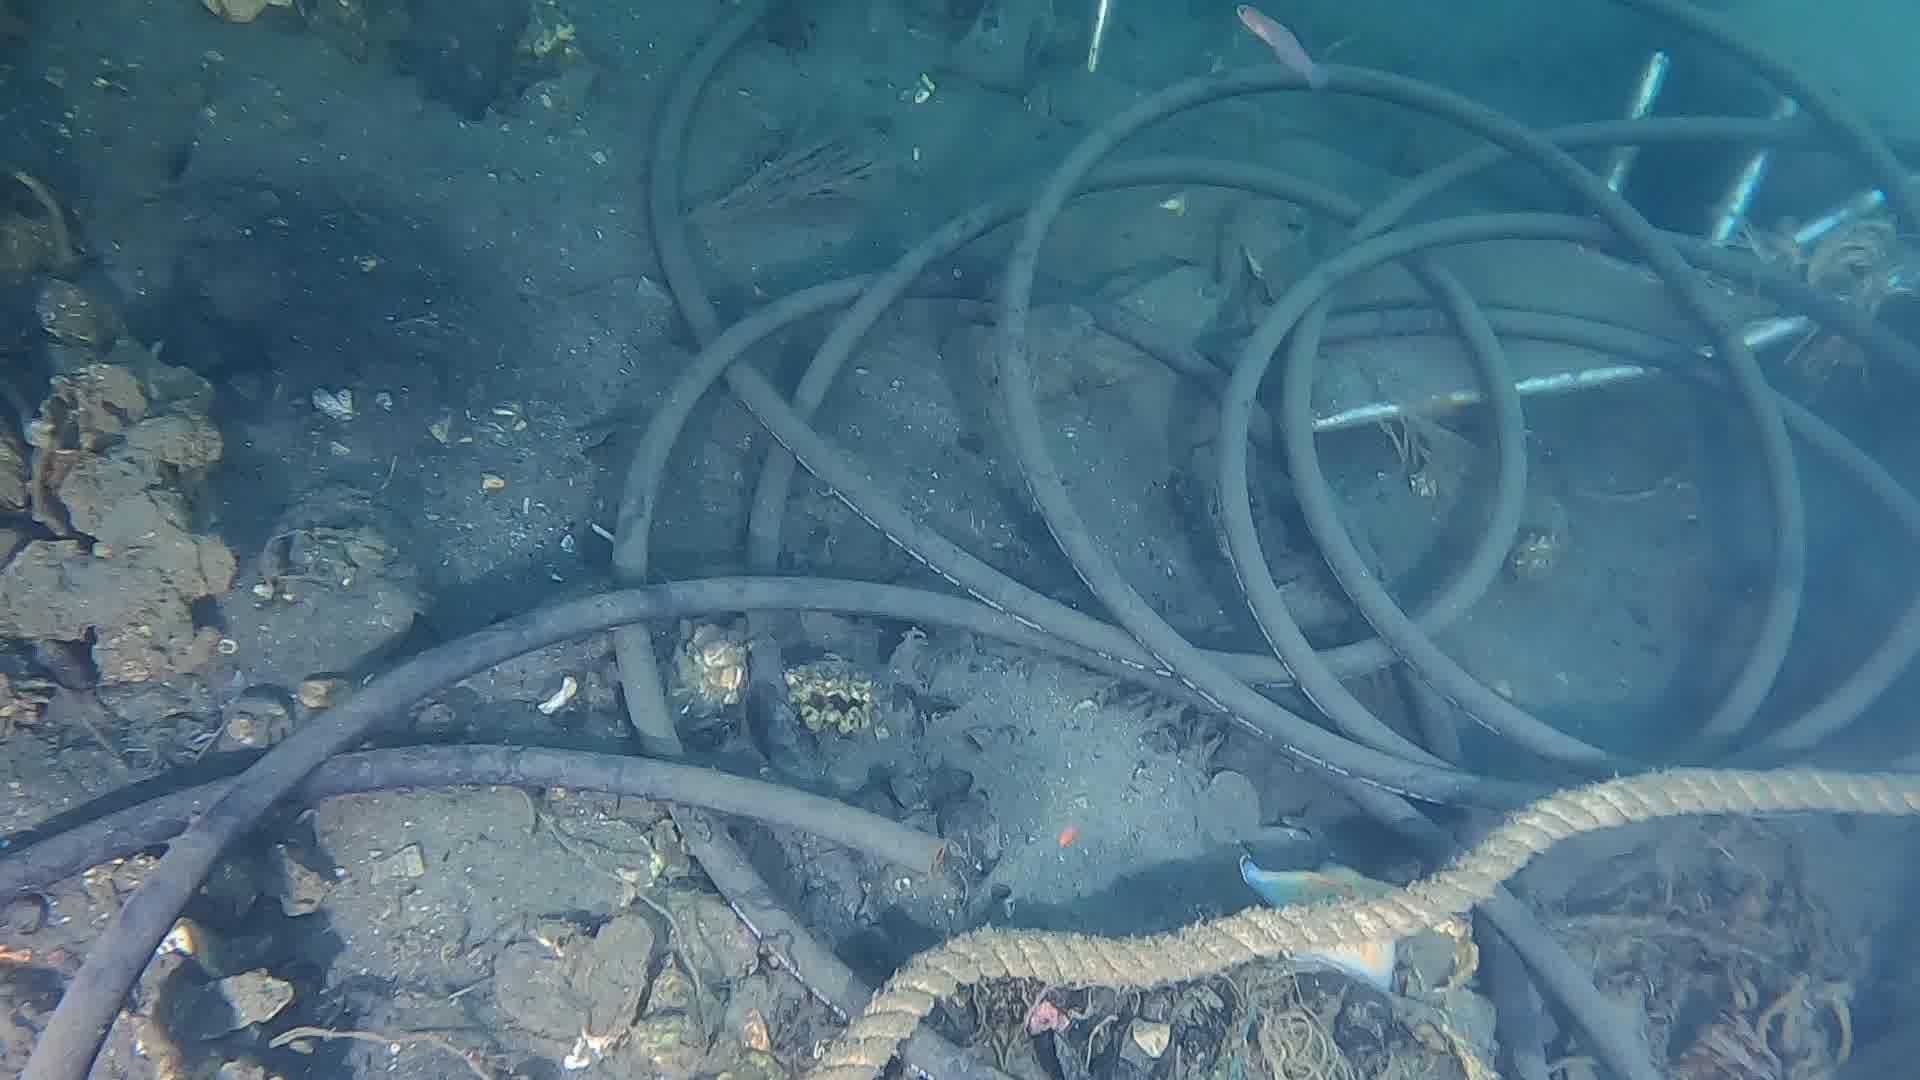rope: (811, 760, 1919, 1080)
